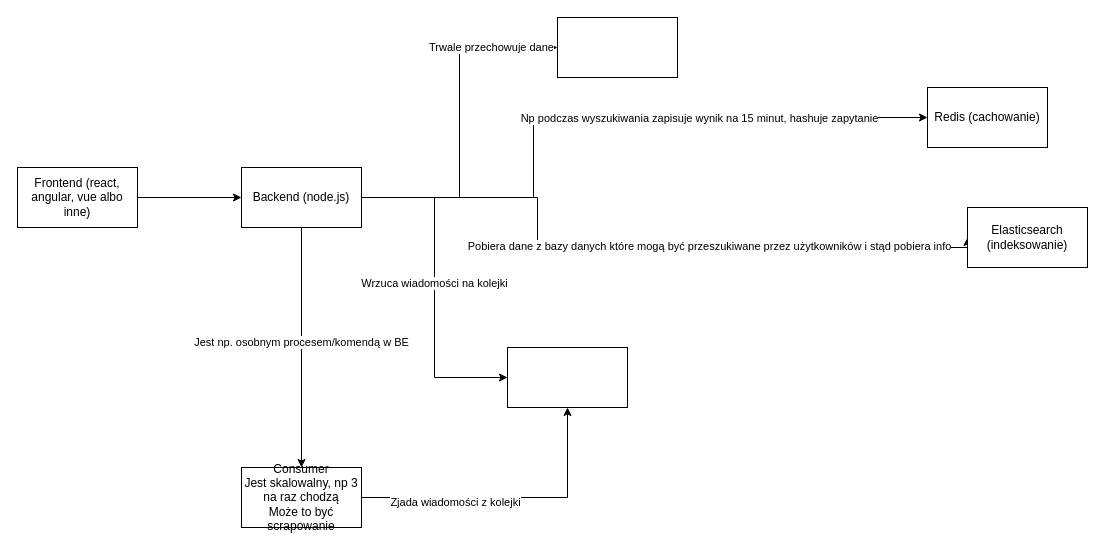
Some shapes in this 1105 by 551 pixel diagram are drawn without their labels. Each missing label, with the centre of its shape:
Baza danych (postgres, mysql): the point at 617,47
RabbitMQ lub Kafka (kolejki): the point at 567,377
